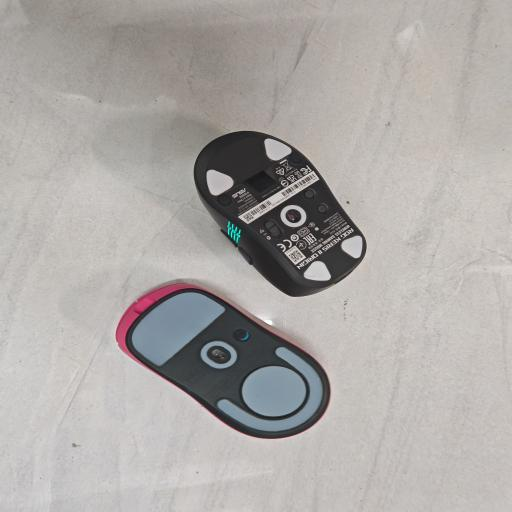mouse: (116, 284, 329, 438), (194, 131, 366, 296)
